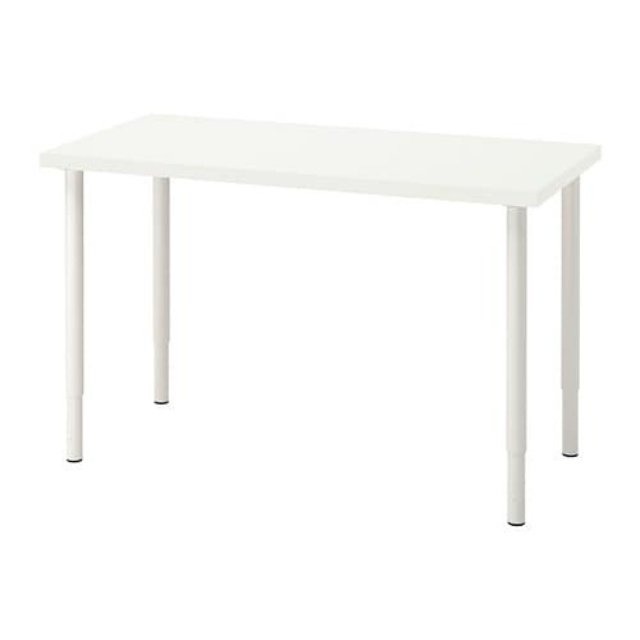obstacle: (41, 115, 599, 525)
